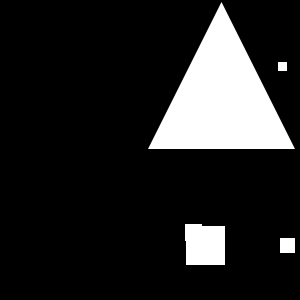circle: (186, 226, 225, 265), (185, 224, 202, 241), (280, 238, 295, 253), (278, 62, 287, 71)
triangle: (148, 2, 295, 149)
